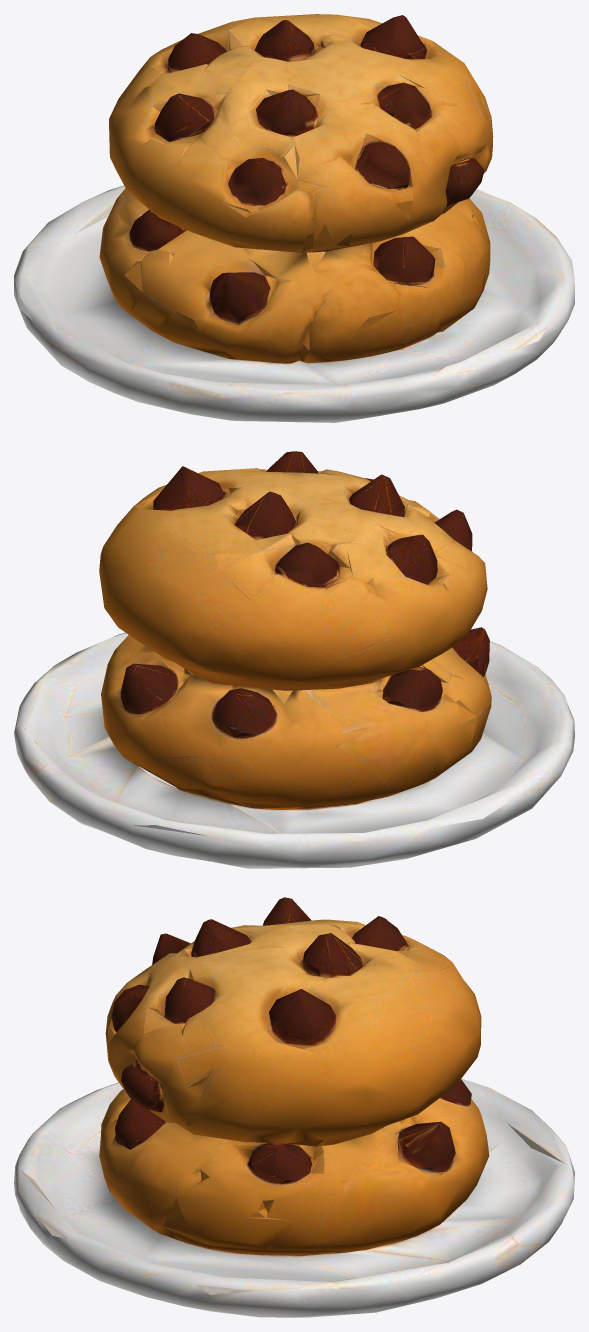
Rendered from cookie.gltf.
The picture shows the model from 3 angles, top to bottom: view 1: azimuth 30°, elevation 25°; view 2: azimuth 150°, elevation 25°; view 3: azimuth 270°, elevation 25°; orthographic projection.
Parts seen in each view (by area): view 1: cookie; view 2: cookie; view 3: cookie.
Part boxes in pixels (<box>): cookie: <box>14,14,574,422</box>; cookie: <box>14,451,574,868</box>; cookie: <box>14,897,574,1317</box>.
Bounding box in the file's own units: 0.9806 × 0.55 × 0.978.
1 material, 1 textured.
